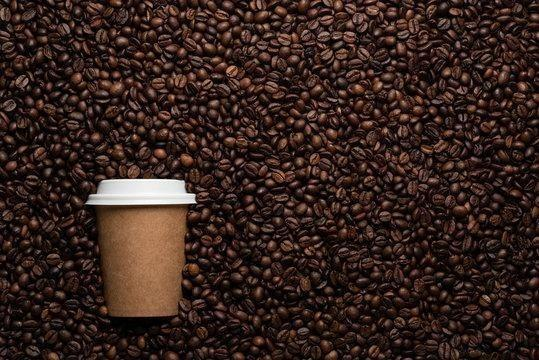cup-disposable: (81, 172, 202, 330)
